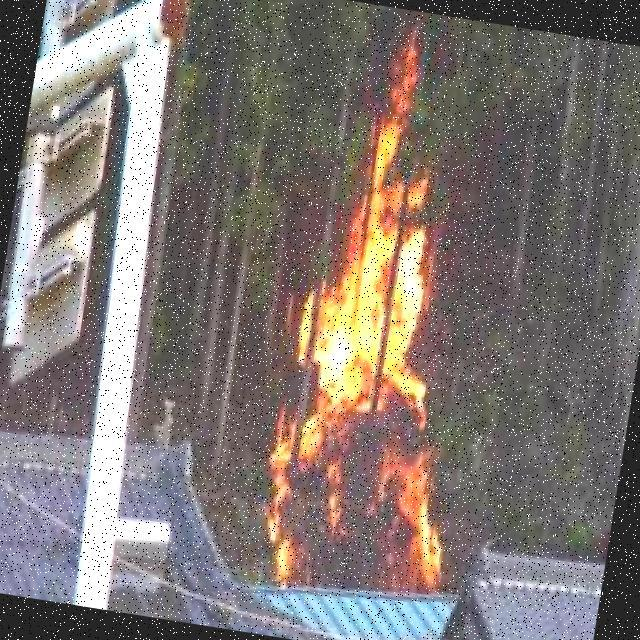Fire: (256, 50, 516, 601)
